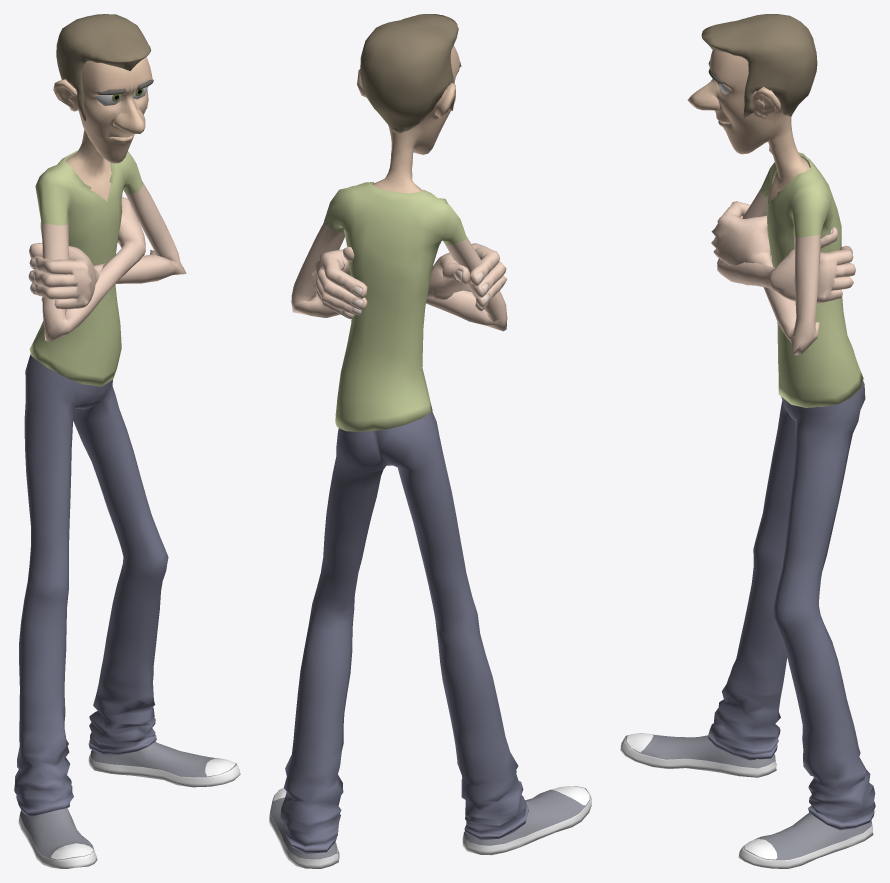
The model's file is okay_end_pose.fbx.
3 renders of one model, left to right at view 1: azimuth 30°, elevation 25°; view 2: azimuth 150°, elevation 25°; view 3: azimuth 270°, elevation 25°, orthographic. The views are drawn at different scales.
Visible parts, largest first — view 1: eyeBall1Lf; view 2: eyeBall1Lf; view 3: eyeBall1Lf.
Part boxes in pixels (x1,y1,x2,y2): eyeBall1Lf: (14,14,240,868); eyeBall1Lf: (269,14,591,868); eyeBall1Lf: (620,14,875,868).
Bounding box in the file's own units: 2.83 × 8.68 × 2.55.
